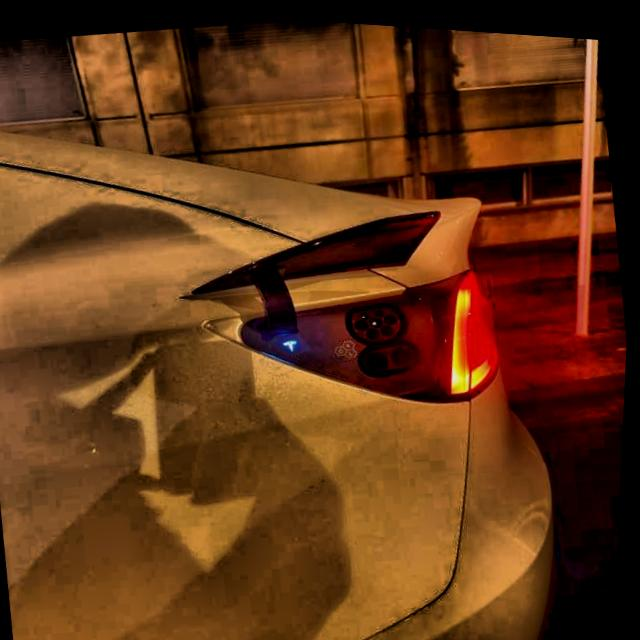inlet: (355, 302, 403, 336)
inlet-above-left: (363, 307, 373, 314)
inlet-above-right: (378, 304, 388, 312)
inlet-below-left: (368, 323, 383, 334)
inlet-below-right: (383, 320, 397, 331)
inlet-center: (372, 311, 386, 323)
inlet-center-left: (357, 314, 372, 326)
inlet-center-right: (387, 309, 401, 319)
